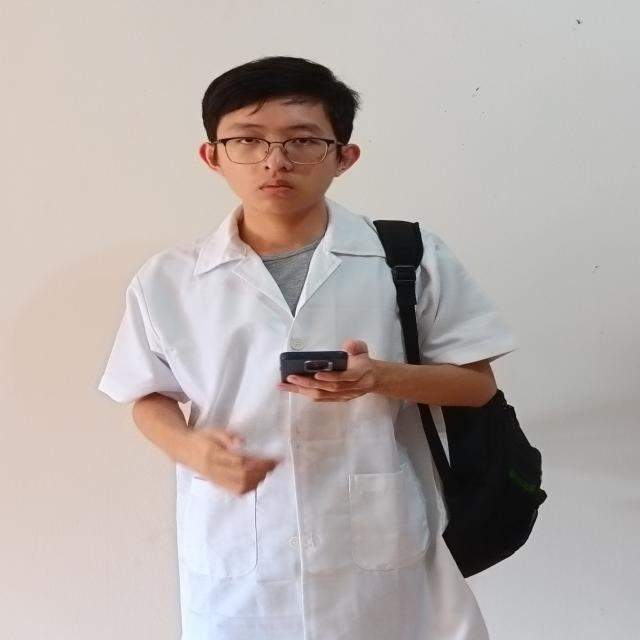person_with_labcoat: (100, 57, 546, 640)
